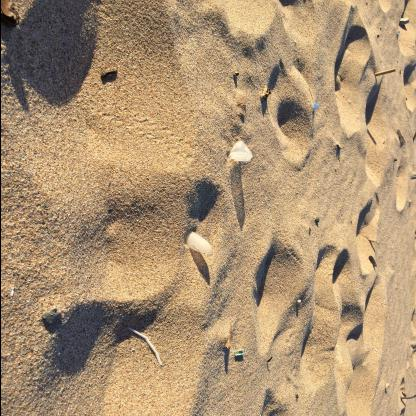plastik: (126, 327, 162, 365), (184, 231, 212, 257), (228, 140, 252, 162)
